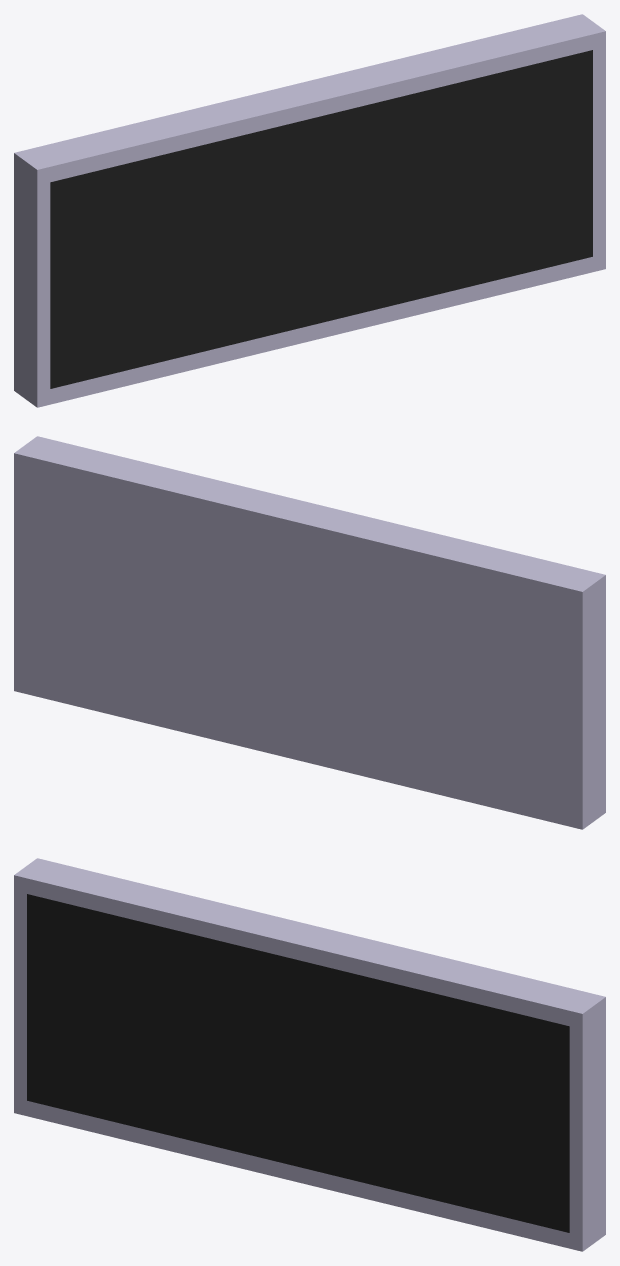
The model's file is fridge badge.fbx.
3 renders of one model, top to bottom at view 1: azimuth 30°, elevation 25°; view 2: azimuth 150°, elevation 25°; view 3: azimuth 330°, elevation 25°, orthographic.
Visible parts, largest first — view 1: Border Cube.001; view 2: Border Cube.001; view 3: Border Cube.001.
Boxes of the visible parts, x1,y1,x2,y2 form: Border Cube.001: [14, 14, 605, 407]; Border Cube.001: [14, 436, 605, 829]; Border Cube.001: [14, 858, 605, 1251].
Bounding box in the file's own units: 446 × 178 × 31.71.
